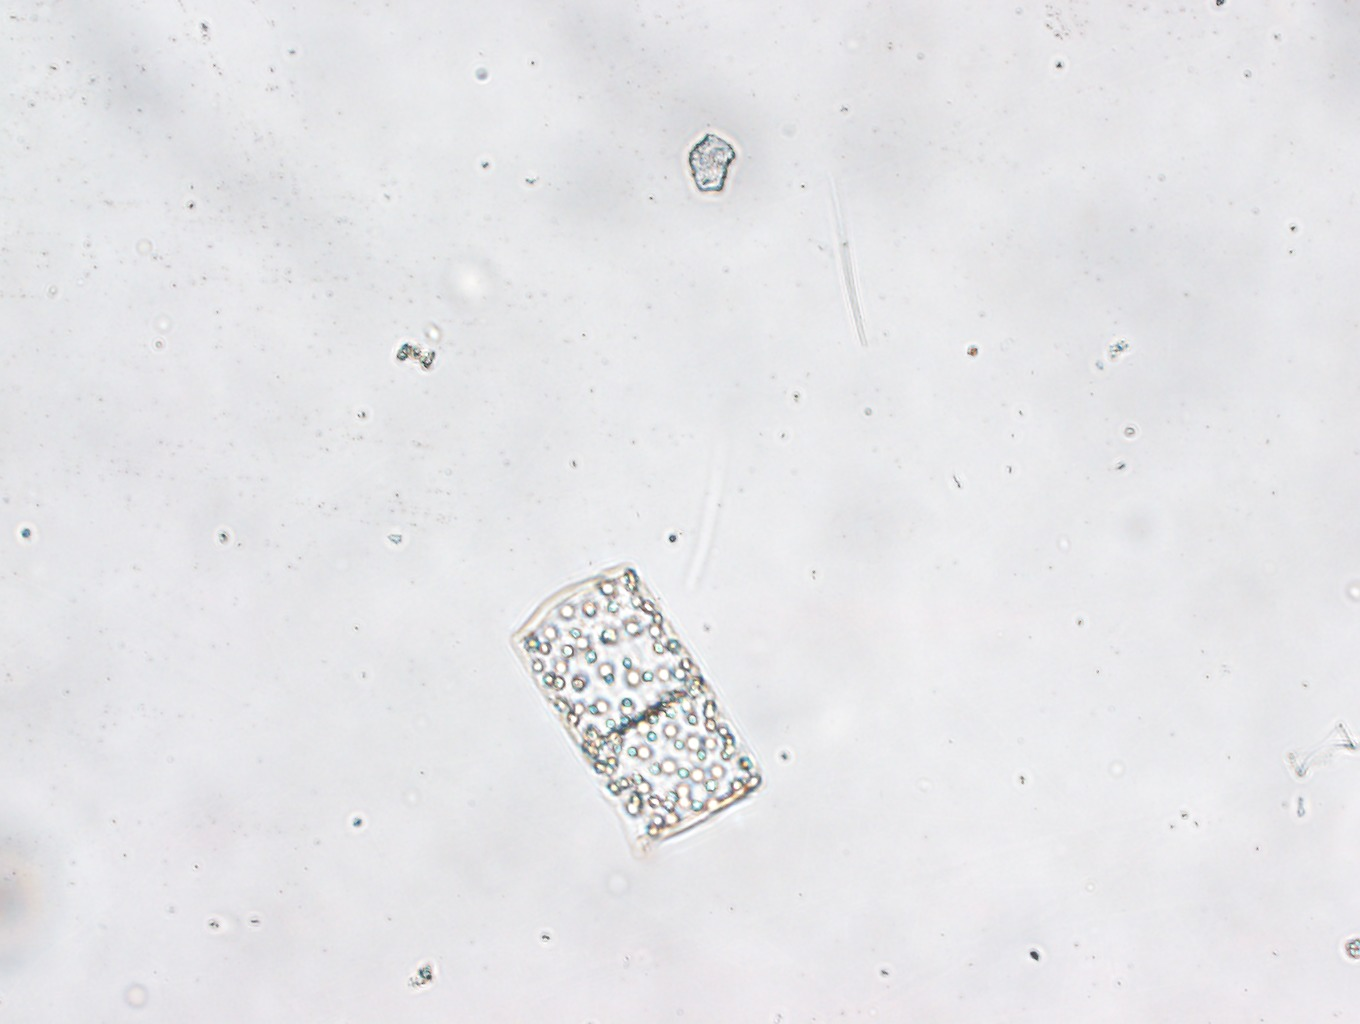guinardia flaccida: (509, 560, 761, 851)
